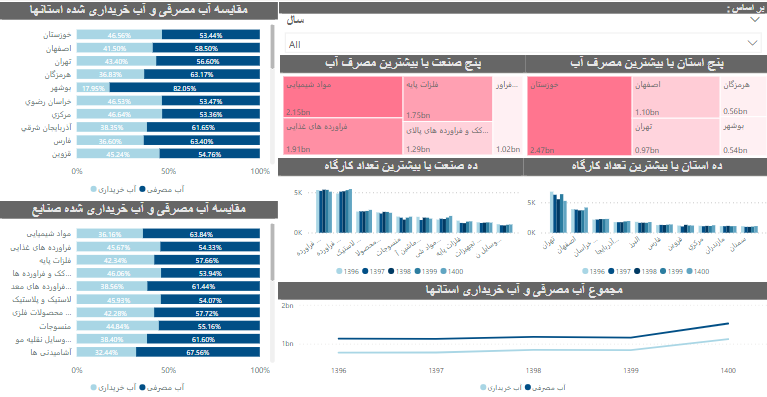

The page's visual inventory and layout, read from the dashboard file:
{"tool":"powerbi","page":{"name":"مصرف آب کارگاه صنعتی ","canvas":[1280,720],"ordinal":1},"visuals":[{"type":"lineChart","title":"مجموع آب مصرفی و آب خریداری استانها","fields":{"Category":["آب استان.سال"],"Y":["Sum(آب استان.مقادیر)"],"Series":["آب استان.نوع آب"]},"box":[463,526.8,817,192.9],"z":0},{"type":"hundredPercentStackedBarChart","title":"مقایسه آب مصرفی و آب خریداری شده صنایع","fields":{"Category":["آب صنایع.صنایع"],"Series":["آب صنایع.نوع آب"],"Y":["Sum(آب صنایع.مقادیر)"]},"box":[0,392.6,463,328],"z":1000},{"type":"hundredPercentStackedBarChart","title":"مقایسه آب مصرفی و آب خریداری شده استانها","fields":{"Category":["آب استان.استان"],"Y":["Sum(آب استان.مقادیر)"],"Series":["آب استان.نوع آب"]},"box":[0,62,463,329],"z":2000},{"type":"treemap","title":"پنج استان با بیشترین مصرف آب","fields":{"Group":["آب استان.استان"],"Values":["Sum(آب استان.مقادیر)"]},"box":[871.6,149.4,408.4,171],"z":3000},{"type":"treemap","title":"پنج صنعت با بیشترین مصرف آب","fields":{"Values":["Sum(آب صنایع.مقادیر)"],"Group":["آب صنایع.صنایع"]},"box":[466,149.4,408.4,170],"z":4000},{"type":"clusteredColumnChart","title":"ده استان با بیشترین تعداد کارگاه","fields":{"Category":["تعداد کارگاه استان.استان"],"Y":["Sum(تعداد کارگاه استان.مقادیر)"],"Series":["تعداد کارگاه استان.سال"]},"box":[872.3,320,407.7,205],"z":5000},{"type":"clusteredColumnChart","title":"ده صنعت با بیشترین تعداد کارگاه","fields":{"Category":["تعداد کارگاه صنایع.صنایع"],"Y":["Sum(تعداد کارگاه صنایع.مقادیر)"],"Series":["تعداد کارگاه صنایع.سال"]},"box":[463,320,408,205],"z":6000},{"type":"slicer","title":": بر اساس","fields":{"Values":["آب استان.سال"]},"box":[465,62,811,88],"z":7000}]}

Visuals, with their boxes on the page's 1280x720 design canvas (x1, y1, x2, y2). These are canvas units, not pixel positions in the 767x397 screenshot, which may show the page scaled, cropped or inside an application window:
"مجموع آب مصرفی و آب خریداری استانها" lineChart: bbox=[463, 527, 1280, 720]
"مقایسه آب مصرفی و آب خریداری شده صنایع" hundredPercentStackedBarChart: bbox=[0, 393, 463, 721]
"مقایسه آب مصرفی و آب خریداری شده استانها" hundredPercentStackedBarChart: bbox=[0, 62, 463, 391]
"پنج استان با بیشترین مصرف آب" treemap: bbox=[872, 149, 1280, 320]
"پنج صنعت با بیشترین مصرف آب" treemap: bbox=[466, 149, 874, 319]
"ده استان با بیشترین تعداد کارگاه" clusteredColumnChart: bbox=[872, 320, 1280, 525]
"ده صنعت با بیشترین تعداد کارگاه" clusteredColumnChart: bbox=[463, 320, 871, 525]
": بر اساس" slicer: bbox=[465, 62, 1276, 150]
